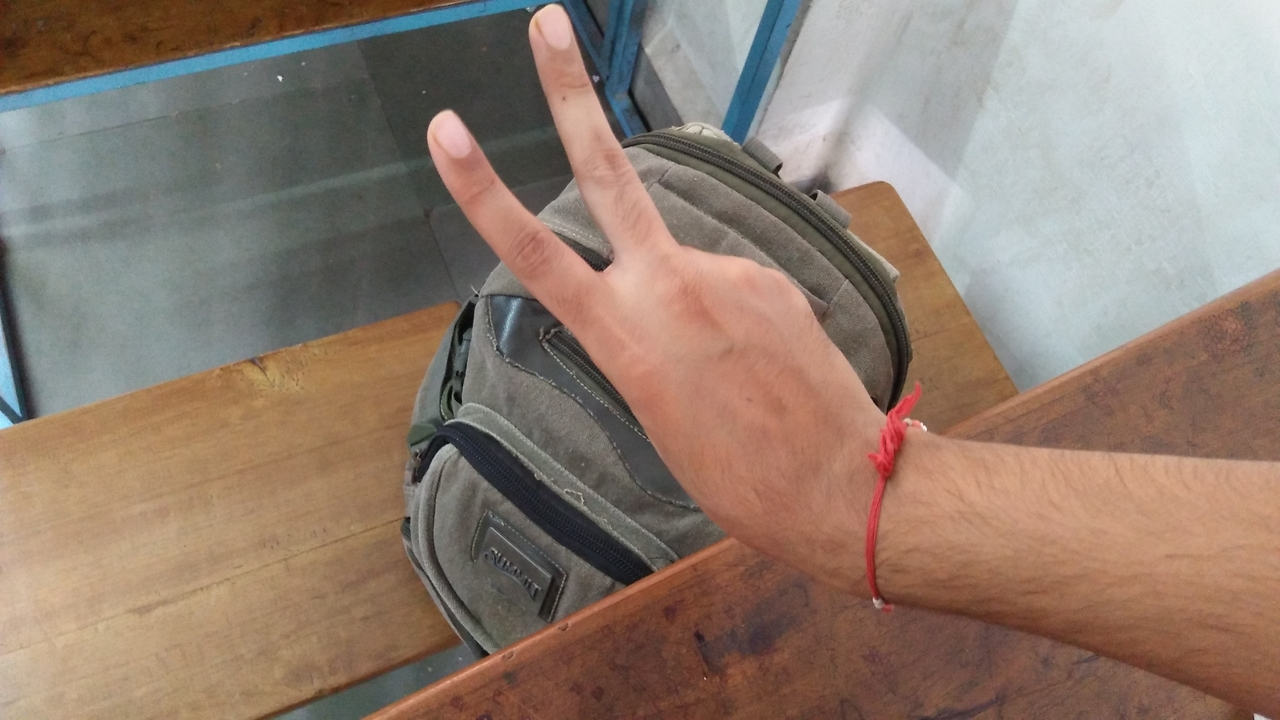fingertip: (414, 102, 486, 162), (518, 2, 576, 58)
